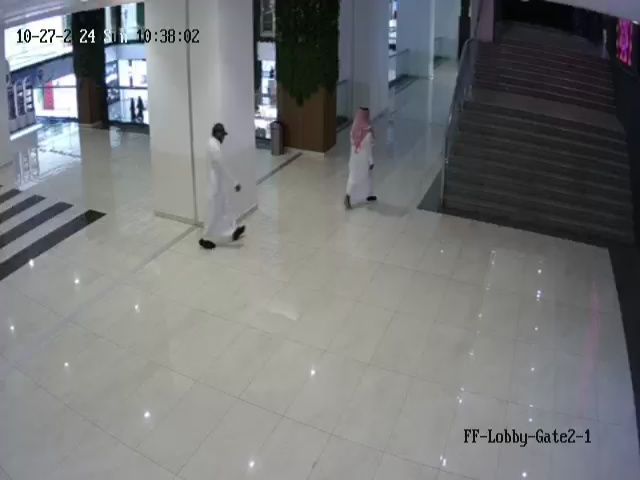female: (136, 94, 147, 123), (126, 95, 135, 119)
male: (198, 122, 246, 249), (344, 106, 378, 210)
